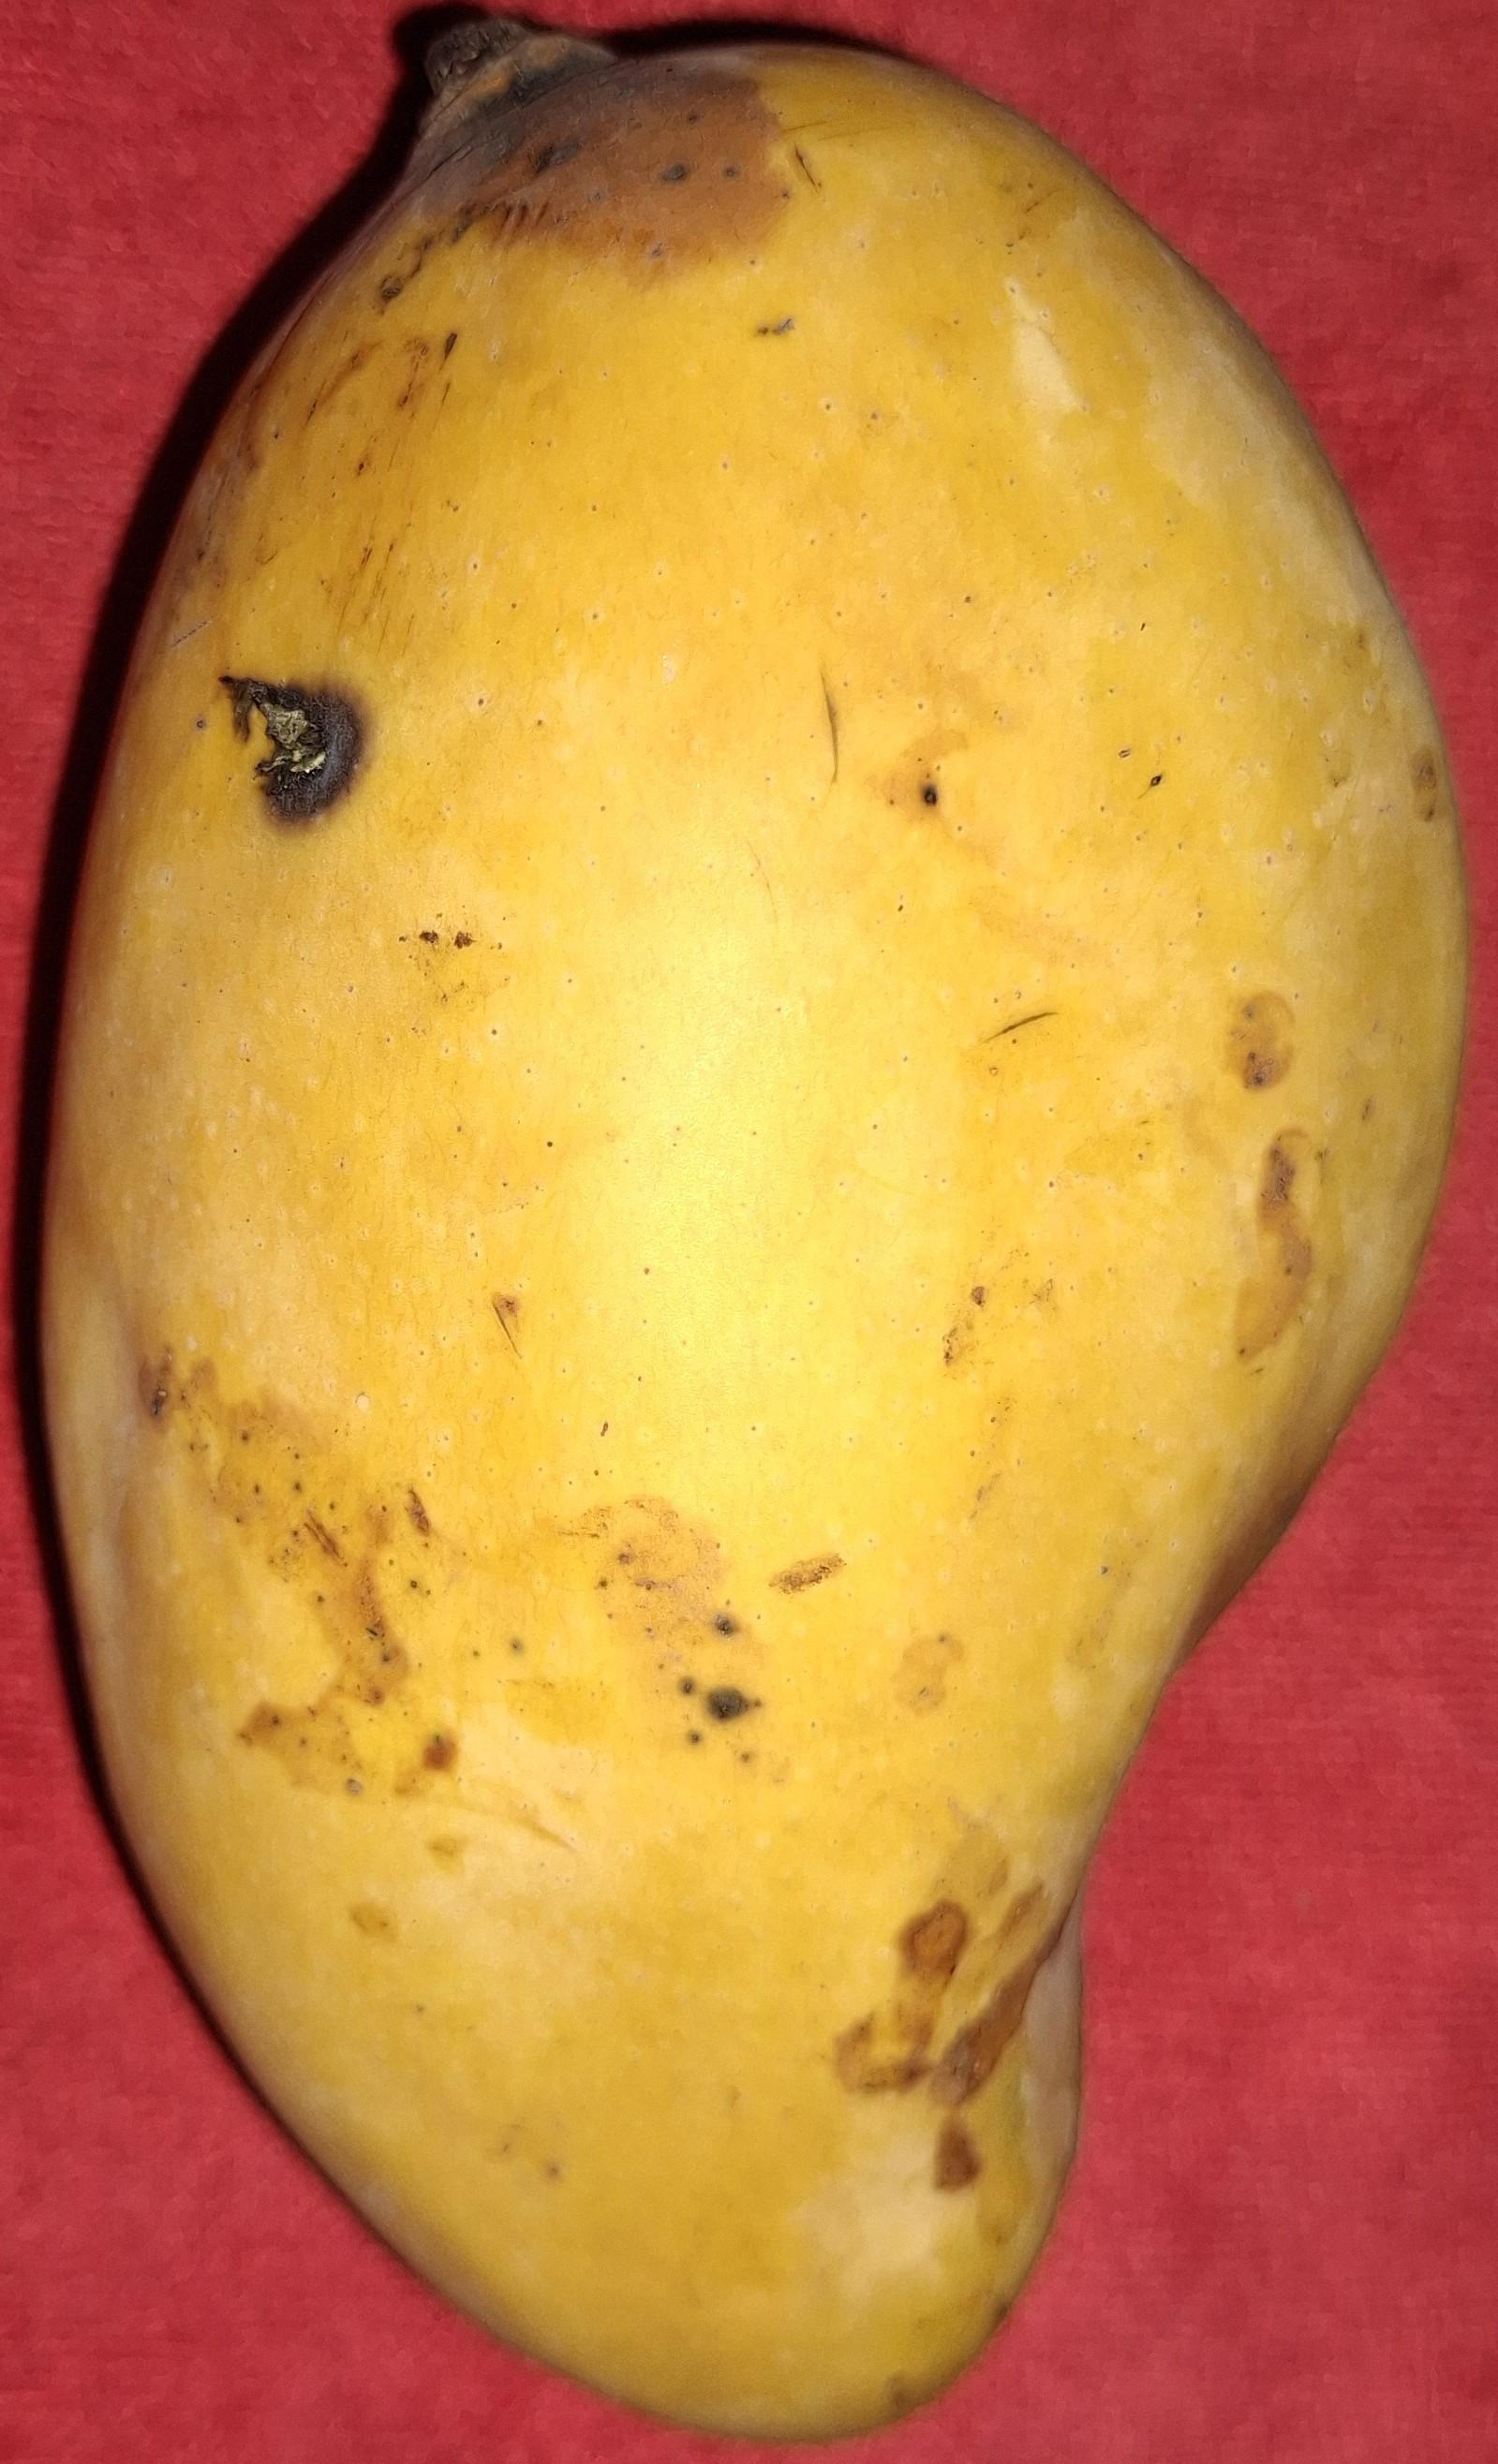mango: (32, 16, 1472, 2443)
